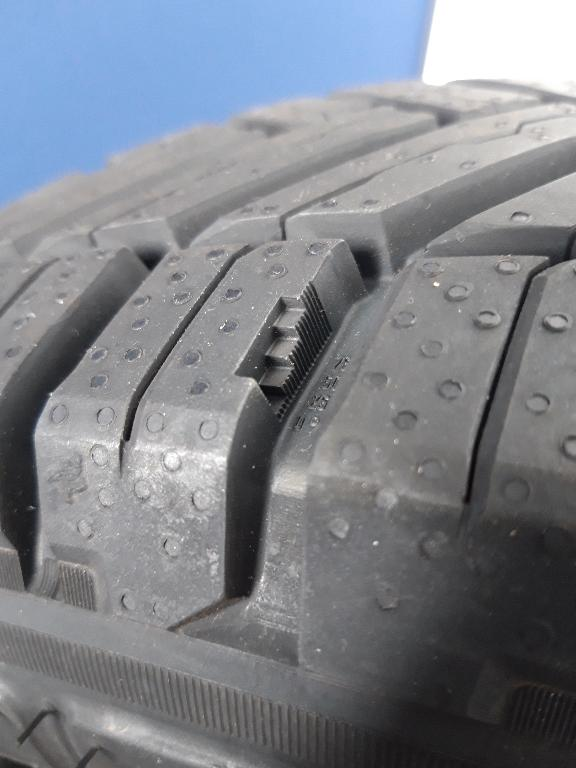temoin:100: (227, 273, 342, 431)
